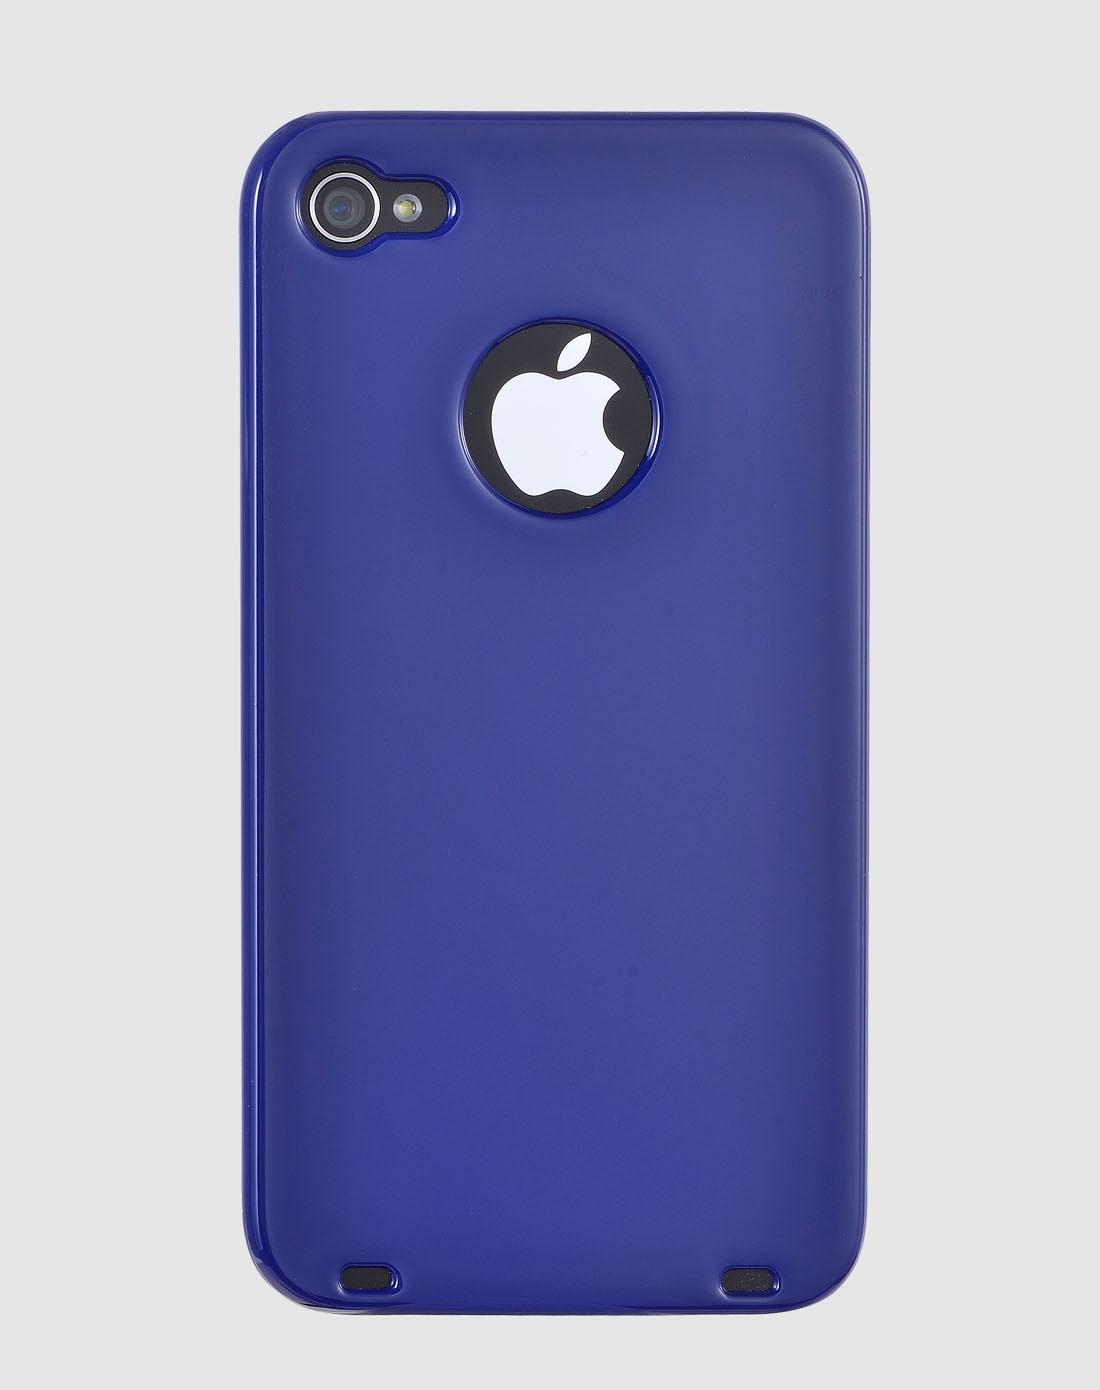phone: (234, 104, 868, 1321)
